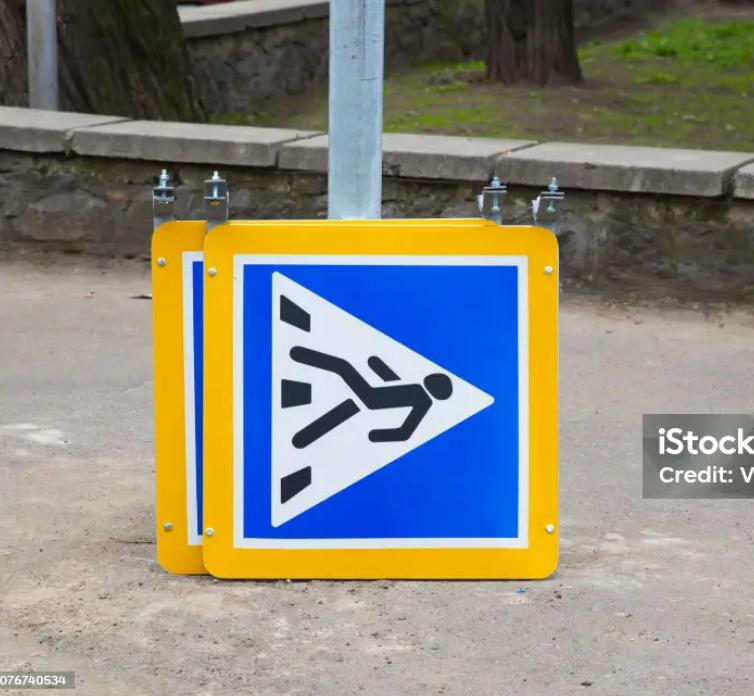obstructed_road_sign: (203, 222, 558, 578)
